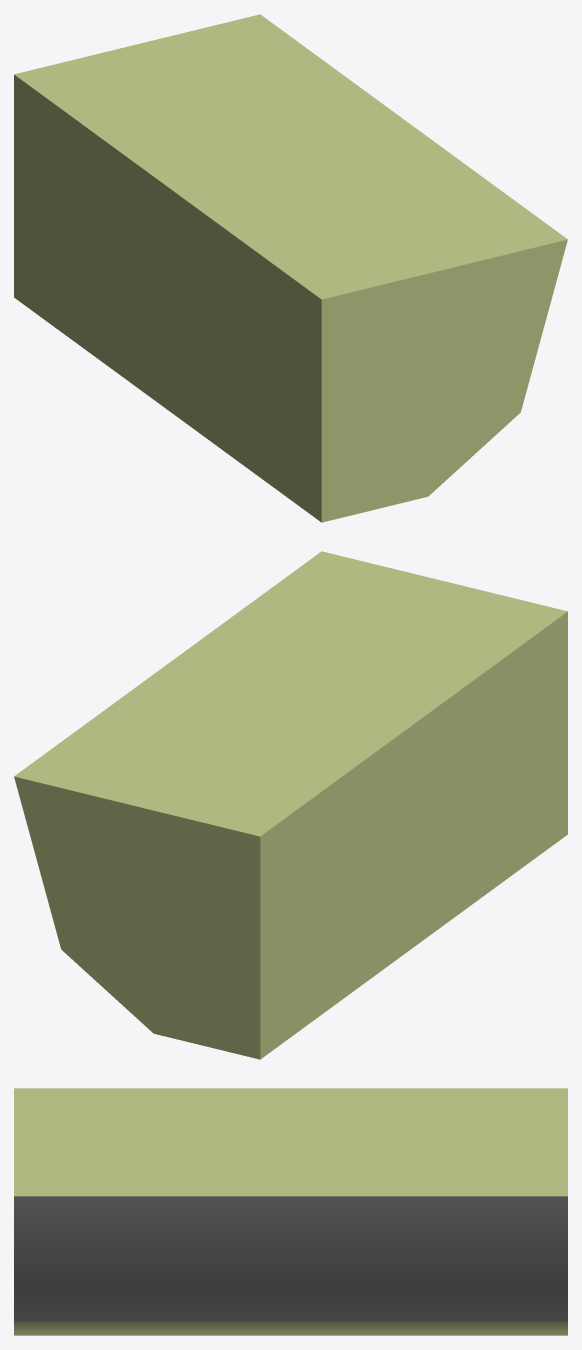
The model's file is topad1.fbx.
3 renders of one model, top to bottom at view 1: azimuth 30°, elevation 25°; view 2: azimuth 150°, elevation 25°; view 3: azimuth 270°, elevation 25°, orthographic. The views are drawn at different scales.
Visible parts, largest first — view 1: top_mod; view 2: top_mod; view 3: top_mod.
Part boxes in pixels (bbox=[...]): top_mod: bbox=[14, 14, 567, 522]; top_mod: bbox=[14, 551, 567, 1059]; top_mod: bbox=[14, 1088, 567, 1335].
Size of the model in its own units: 2.31 by 2 by 5.
